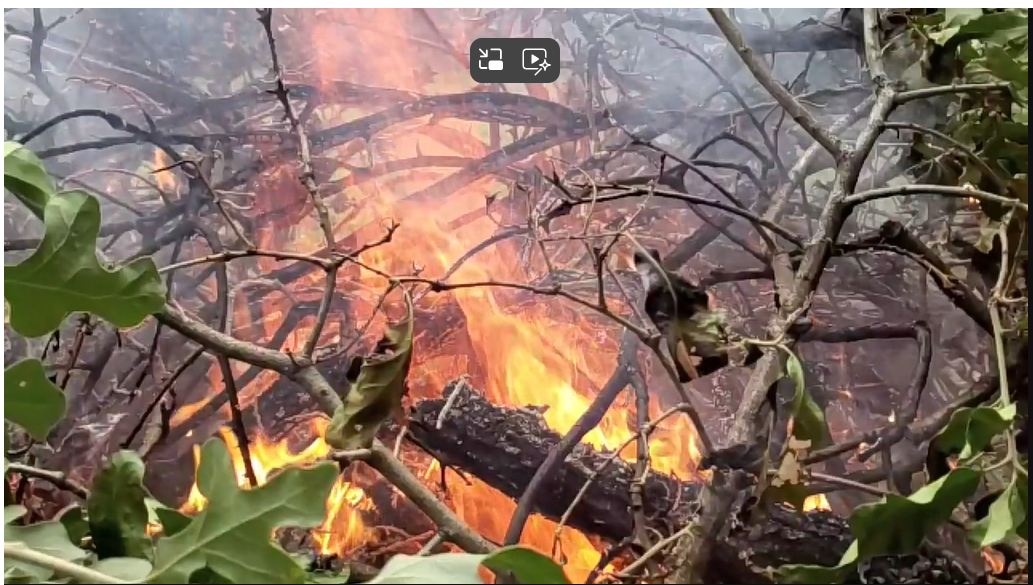fire: (205, 10, 707, 585)
